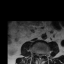CCS_normal: (39, 53, 41, 60)
LFS_stenosis: (43, 52, 45, 57)
LLS_stenosis: (41, 53, 43, 58)
RFS_severe_stenosis: (35, 52, 37, 57)
RLS_stenosis: (37, 52, 39, 58)
